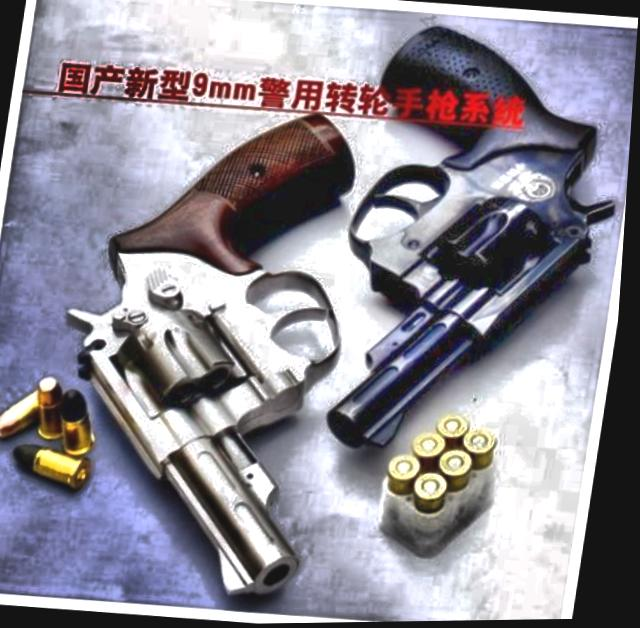pistol: (32, 89, 375, 607), (321, 18, 639, 469)
